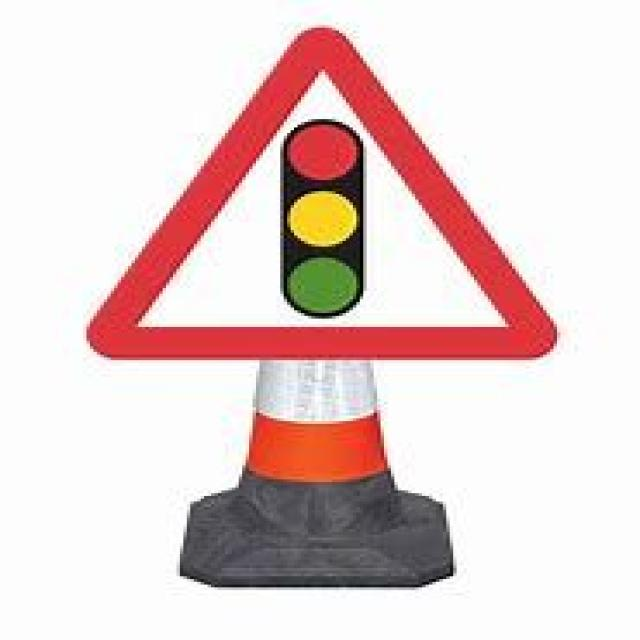TRAFFIC_SIGNAL: (76, 14, 562, 372)
